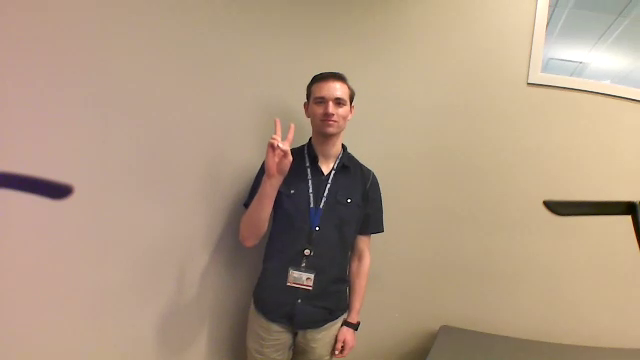peace: (255, 113, 305, 178)
